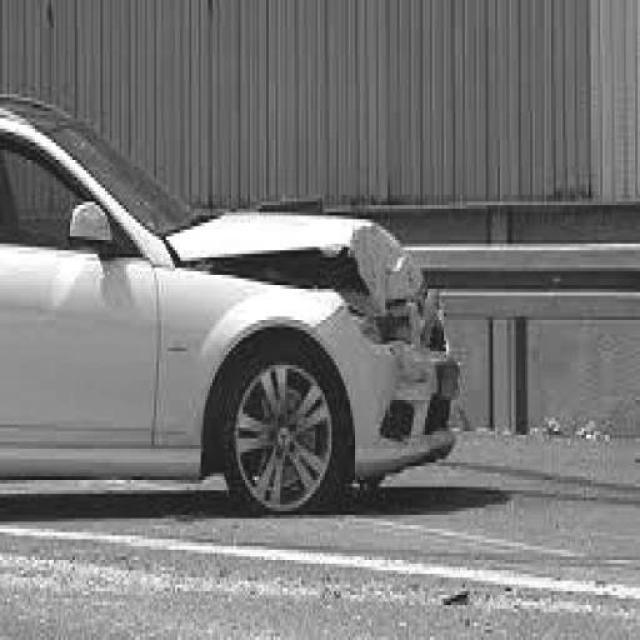car damage: (176, 212, 456, 452)
